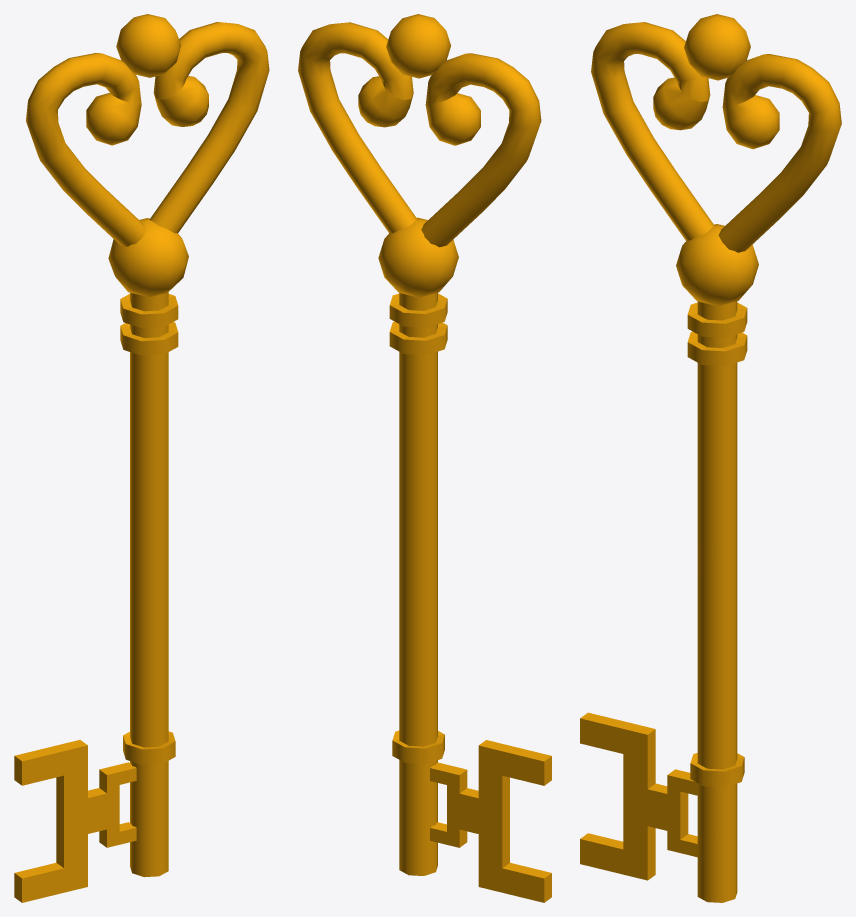
Rendered from Key.FBX.
The picture shows the model from 3 angles, left to right: view 1: azimuth 30°, elevation 25°; view 2: azimuth 150°, elevation 25°; view 3: azimuth 330°, elevation 25°; orthographic projection. The views are drawn at different scales.
Visible parts, largest first — view 1: Cylinder001, Line002, Line003, Line001, GeoSphere001, GeoSphere002; view 2: Cylinder001, Line002, Line003, Line001, GeoSphere001, GeoSphere002; view 3: Cylinder001, Line003, Line002, Line001, GeoSphere001, GeoSphere002.
Part boxes in pixels (x1=…): Cylinder001: x1=120, y1=292, x2=178, y2=877; Line002: x1=149, y1=22, x2=269, y2=233; Line003: x1=26, y1=53, x2=146, y2=246; Line001: x1=14, y1=740, x2=136, y2=902; GeoSphere001: x1=108, y1=218, x2=188, y2=297; GeoSphere002: x1=116, y1=14, x2=180, y2=77; Cylinder001: x1=389, y1=292, x2=447, y2=875; Line002: x1=298, y1=22, x2=417, y2=233; Line003: x1=421, y1=53, x2=541, y2=247; Line001: x1=430, y1=740, x2=551, y2=902; GeoSphere001: x1=378, y1=217, x2=458, y2=297; GeoSphere002: x1=386, y1=14, x2=450, y2=78; Cylinder001: x1=687, y1=301, x2=747, y2=902; Line003: x1=591, y1=22, x2=714, y2=240; Line002: x1=718, y1=54, x2=841, y2=252; Line001: x1=580, y1=712, x2=697, y2=880; GeoSphere001: x1=676, y1=224, x2=758, y2=306; GeoSphere002: x1=684, y1=14, x2=750, y2=80.
Size of the model in its own units: 1.47 by 4.8 by 0.4125.
